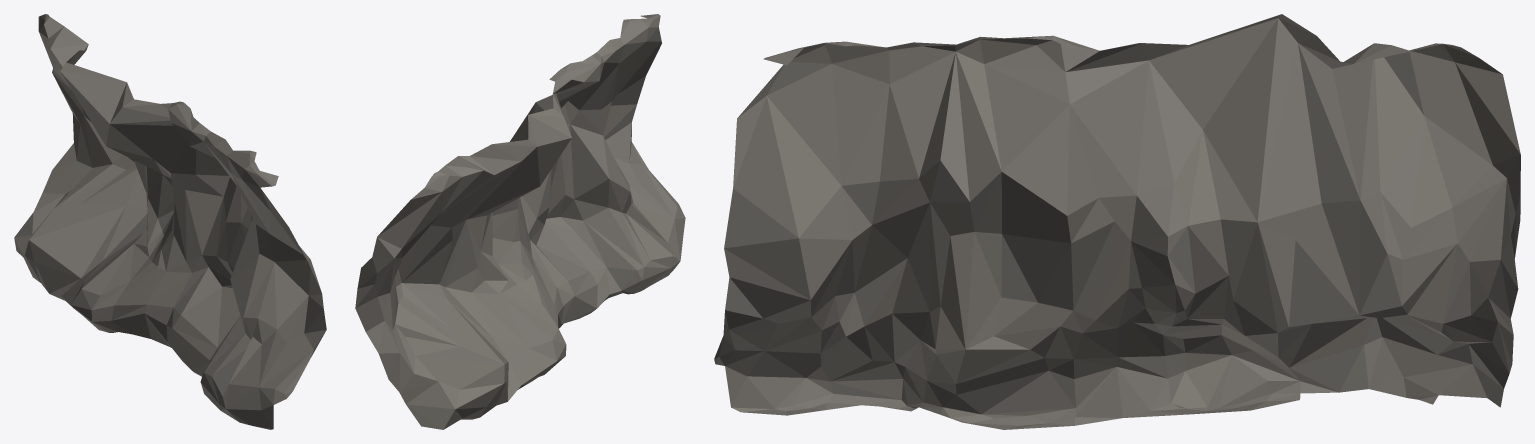
File: SM_Env_Cave_Background_01.glb
3 renders of one model, left to right at view 1: azimuth 30°, elevation 25°; view 2: azimuth 150°, elevation 25°; view 3: azimuth 270°, elevation 25°, orthographic. The views are drawn at different scales.
Parts seen in each view (by area): view 1: SM_Env_Cave_Background_01; view 2: SM_Env_Cave_Background_01; view 3: SM_Env_Cave_Background_01.
Part boxes in pixels (x1,y1,x2,y2): SM_Env_Cave_Background_01: [14, 14, 326, 429]; SM_Env_Cave_Background_01: [355, 14, 685, 429]; SM_Env_Cave_Background_01: [714, 14, 1520, 429].
Bounding box in the file's own units: 0.1152 × 0.2528 × 0.4687.
1 material, 1 textured.
